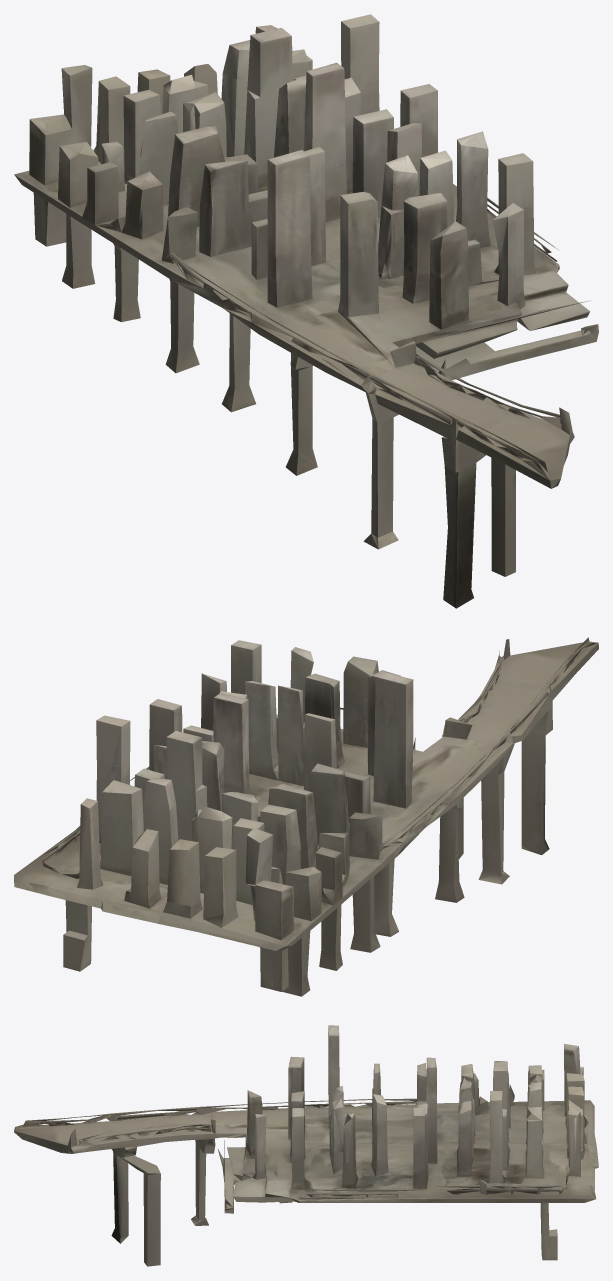
Rendered from m2ElevatedRailBg.glb.
3 renders of one model, top to bottom at view 1: azimuth 30°, elevation 25°; view 2: azimuth 150°, elevation 25°; view 3: azimuth 270°, elevation 25°, orthographic. The views are drawn at different scales.
Visible parts, largest first — view 1: model; view 2: model; view 3: model.
Boxes of the visible parts, left/top/right/bottom form: model: left=14, top=14, right=598, bottom=608; model: left=14, top=637, right=598, bottom=996; model: left=14, top=1025, right=598, bottom=1266.
Bounding box in the file's own units: 0.7649 × 0.7652 × 1.9.
Materials: 1 (1 with a texture image).
